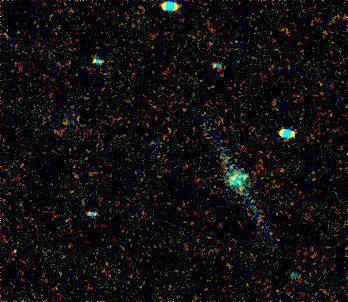star: (225, 172, 255, 202)
